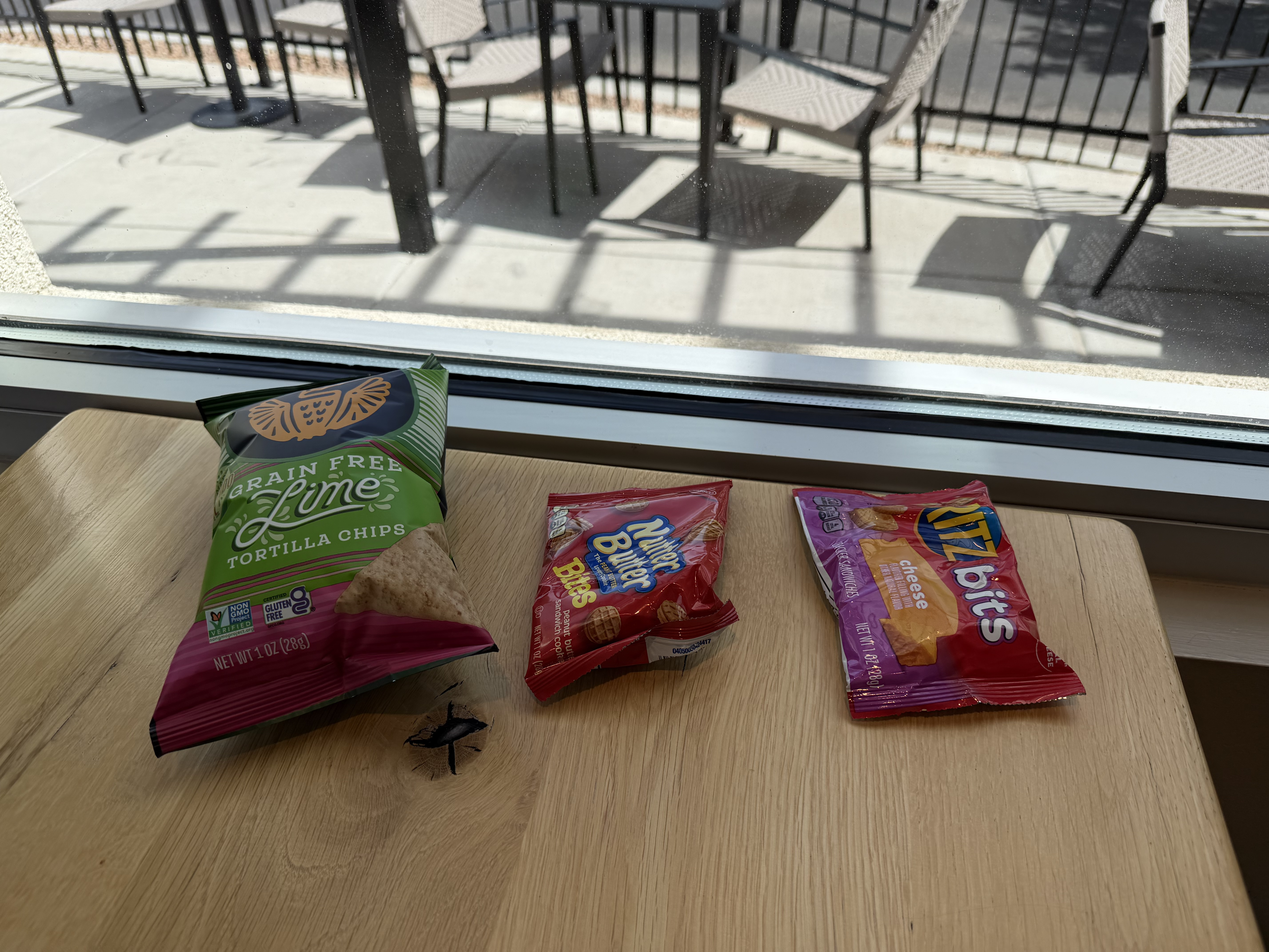lime: (188, 365, 493, 709)
nutter_butter: (542, 464, 732, 695)
ritz_cheese: (788, 470, 1096, 718)
